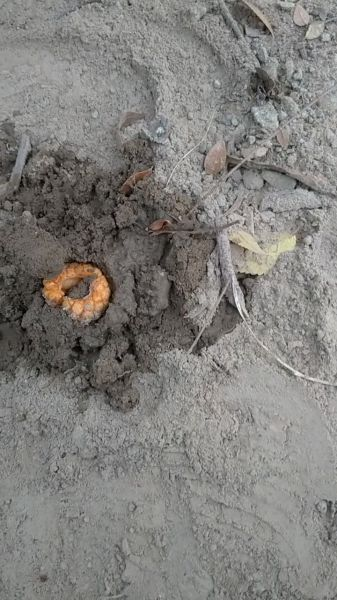eggs: (35, 260, 116, 331)
